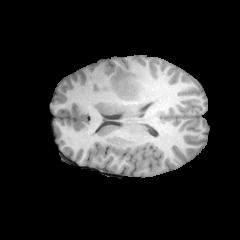glioma: (106, 66, 139, 100)
